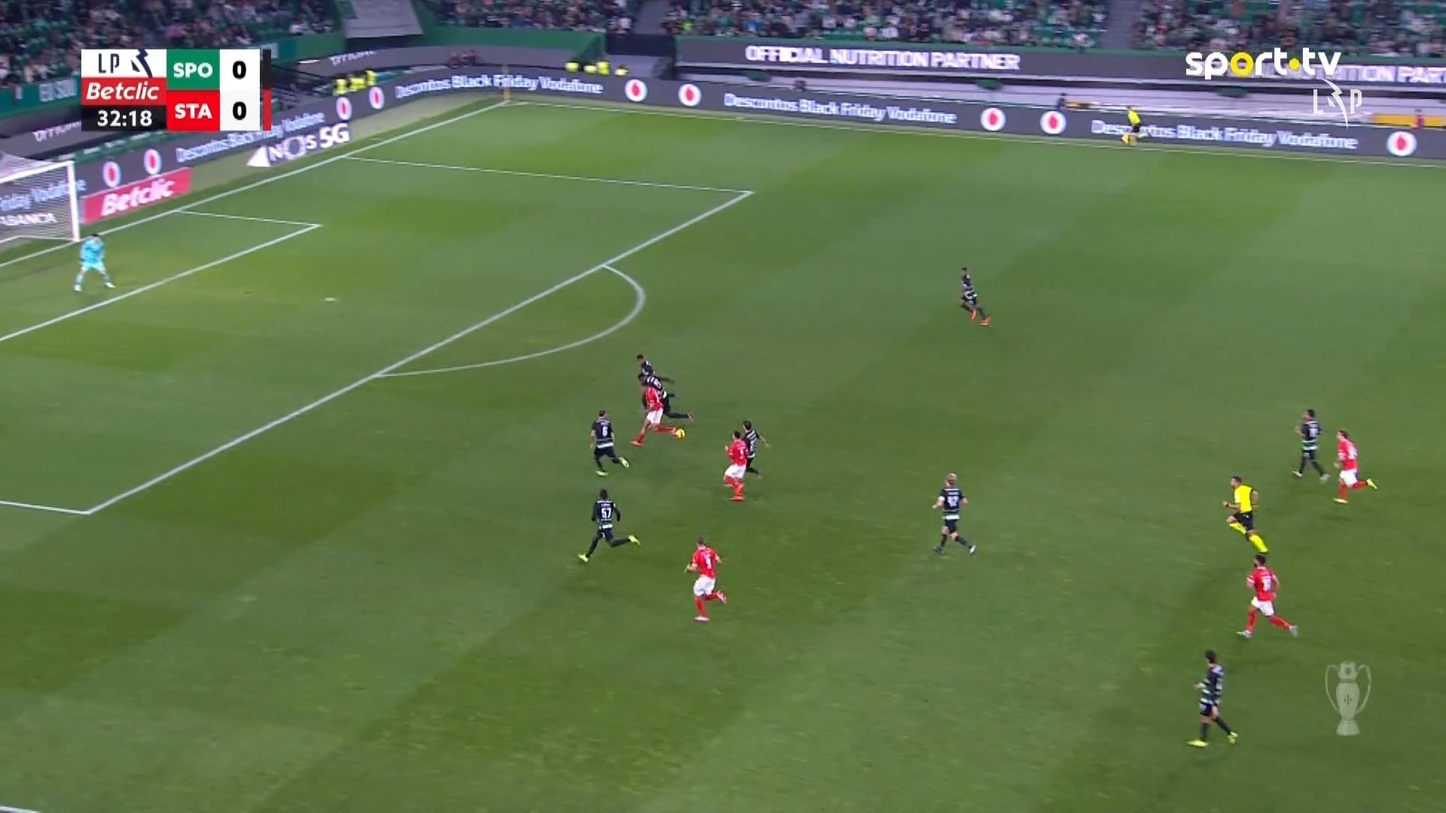ball: (674, 428, 685, 439)
goalkeeper: (72, 231, 115, 291)
player: (1235, 553, 1298, 639), (1186, 648, 1238, 747), (576, 487, 640, 564), (931, 472, 976, 556), (684, 535, 727, 622), (630, 382, 684, 446), (1332, 428, 1377, 503), (638, 373, 696, 423), (1291, 407, 1329, 483), (588, 409, 630, 476), (958, 266, 991, 326), (722, 430, 749, 501), (740, 419, 770, 480), (636, 354, 661, 410)
referee: (1222, 474, 1268, 554), (1120, 104, 1142, 145)
